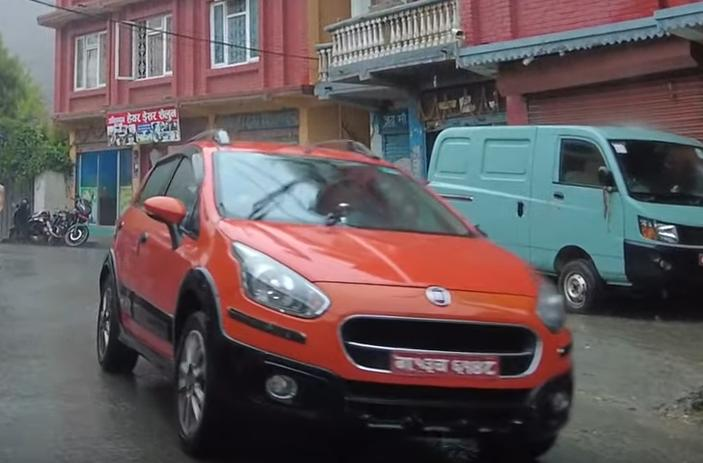bike: (53, 197, 97, 249)
car: (103, 146, 576, 463)
van: (428, 120, 703, 310)
